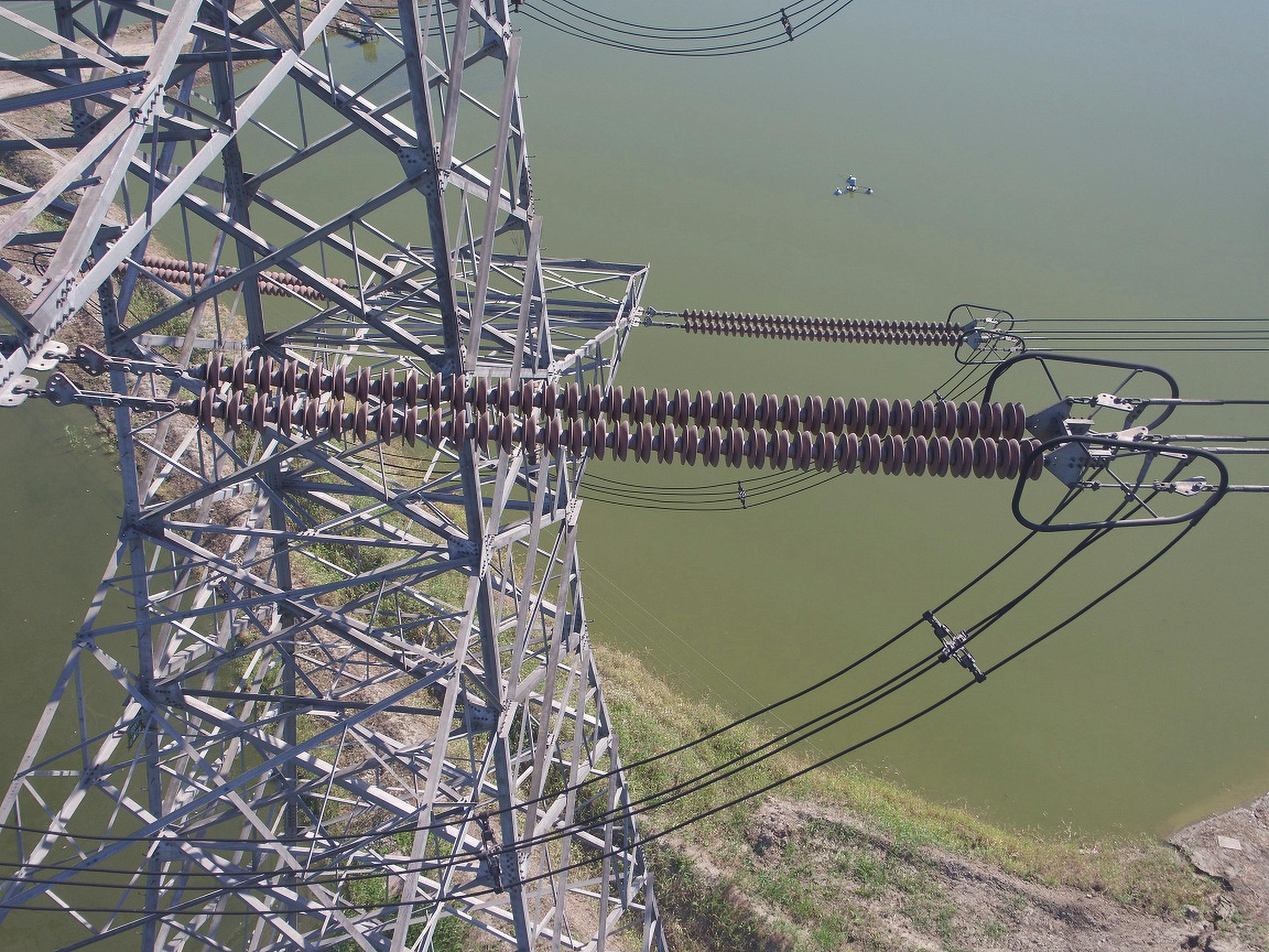insulator: (192, 347, 1049, 484), (115, 251, 349, 303), (681, 306, 966, 348)
